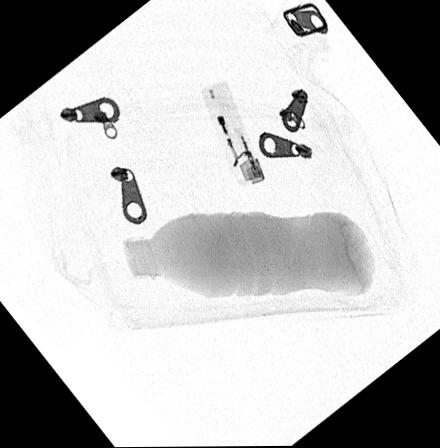Lighter: (199, 80, 266, 185)
